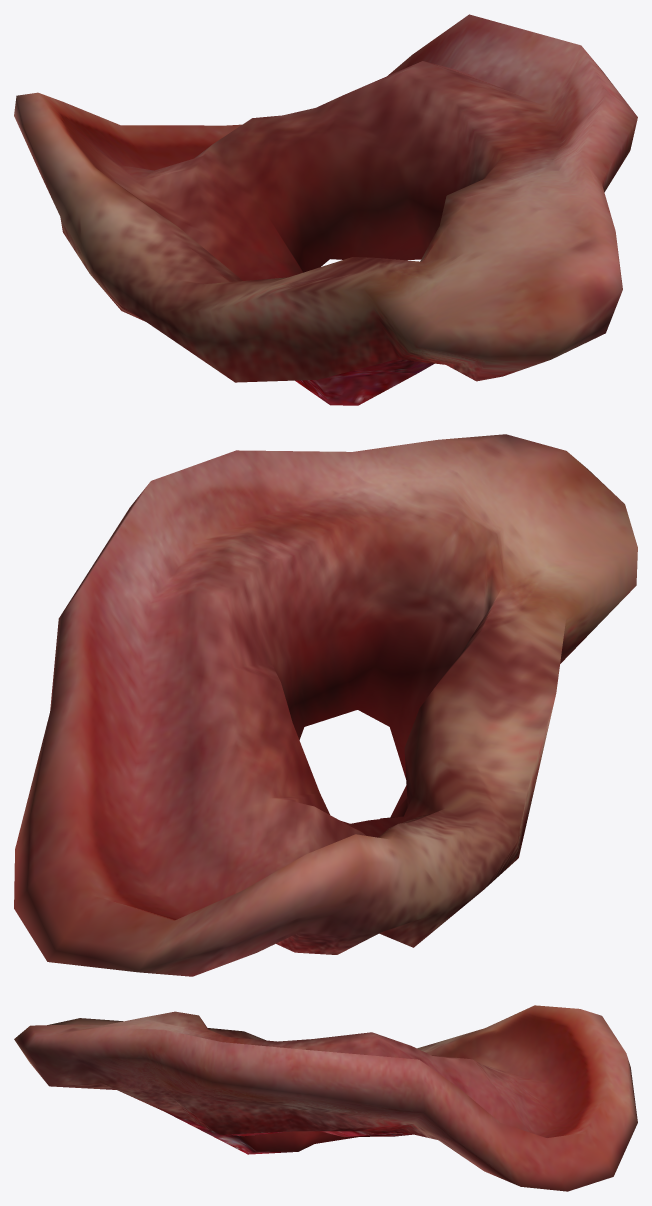
File: Ear_5.fbx
3 renders of one model, top to bottom at view 1: azimuth 30°, elevation 25°; view 2: azimuth 150°, elevation 25°; view 3: azimuth 270°, elevation 25°, orthographic. The views are drawn at different scales.
Visible parts, largest first — view 1: Ear_5; view 2: Ear_5; view 3: Ear_5.
Boxes of the visible parts, x1,y1,x2,y2 form: Ear_5: (14, 14, 637, 405); Ear_5: (14, 434, 637, 976); Ear_5: (14, 1005, 637, 1191).
Size of the model in its own units: 0.0252 by 0.0165 by 0.0471.
